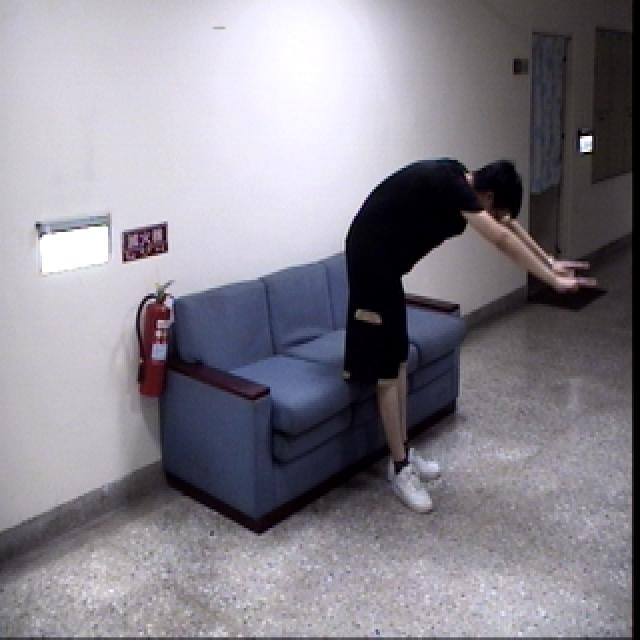bend: (335, 141, 601, 520)
